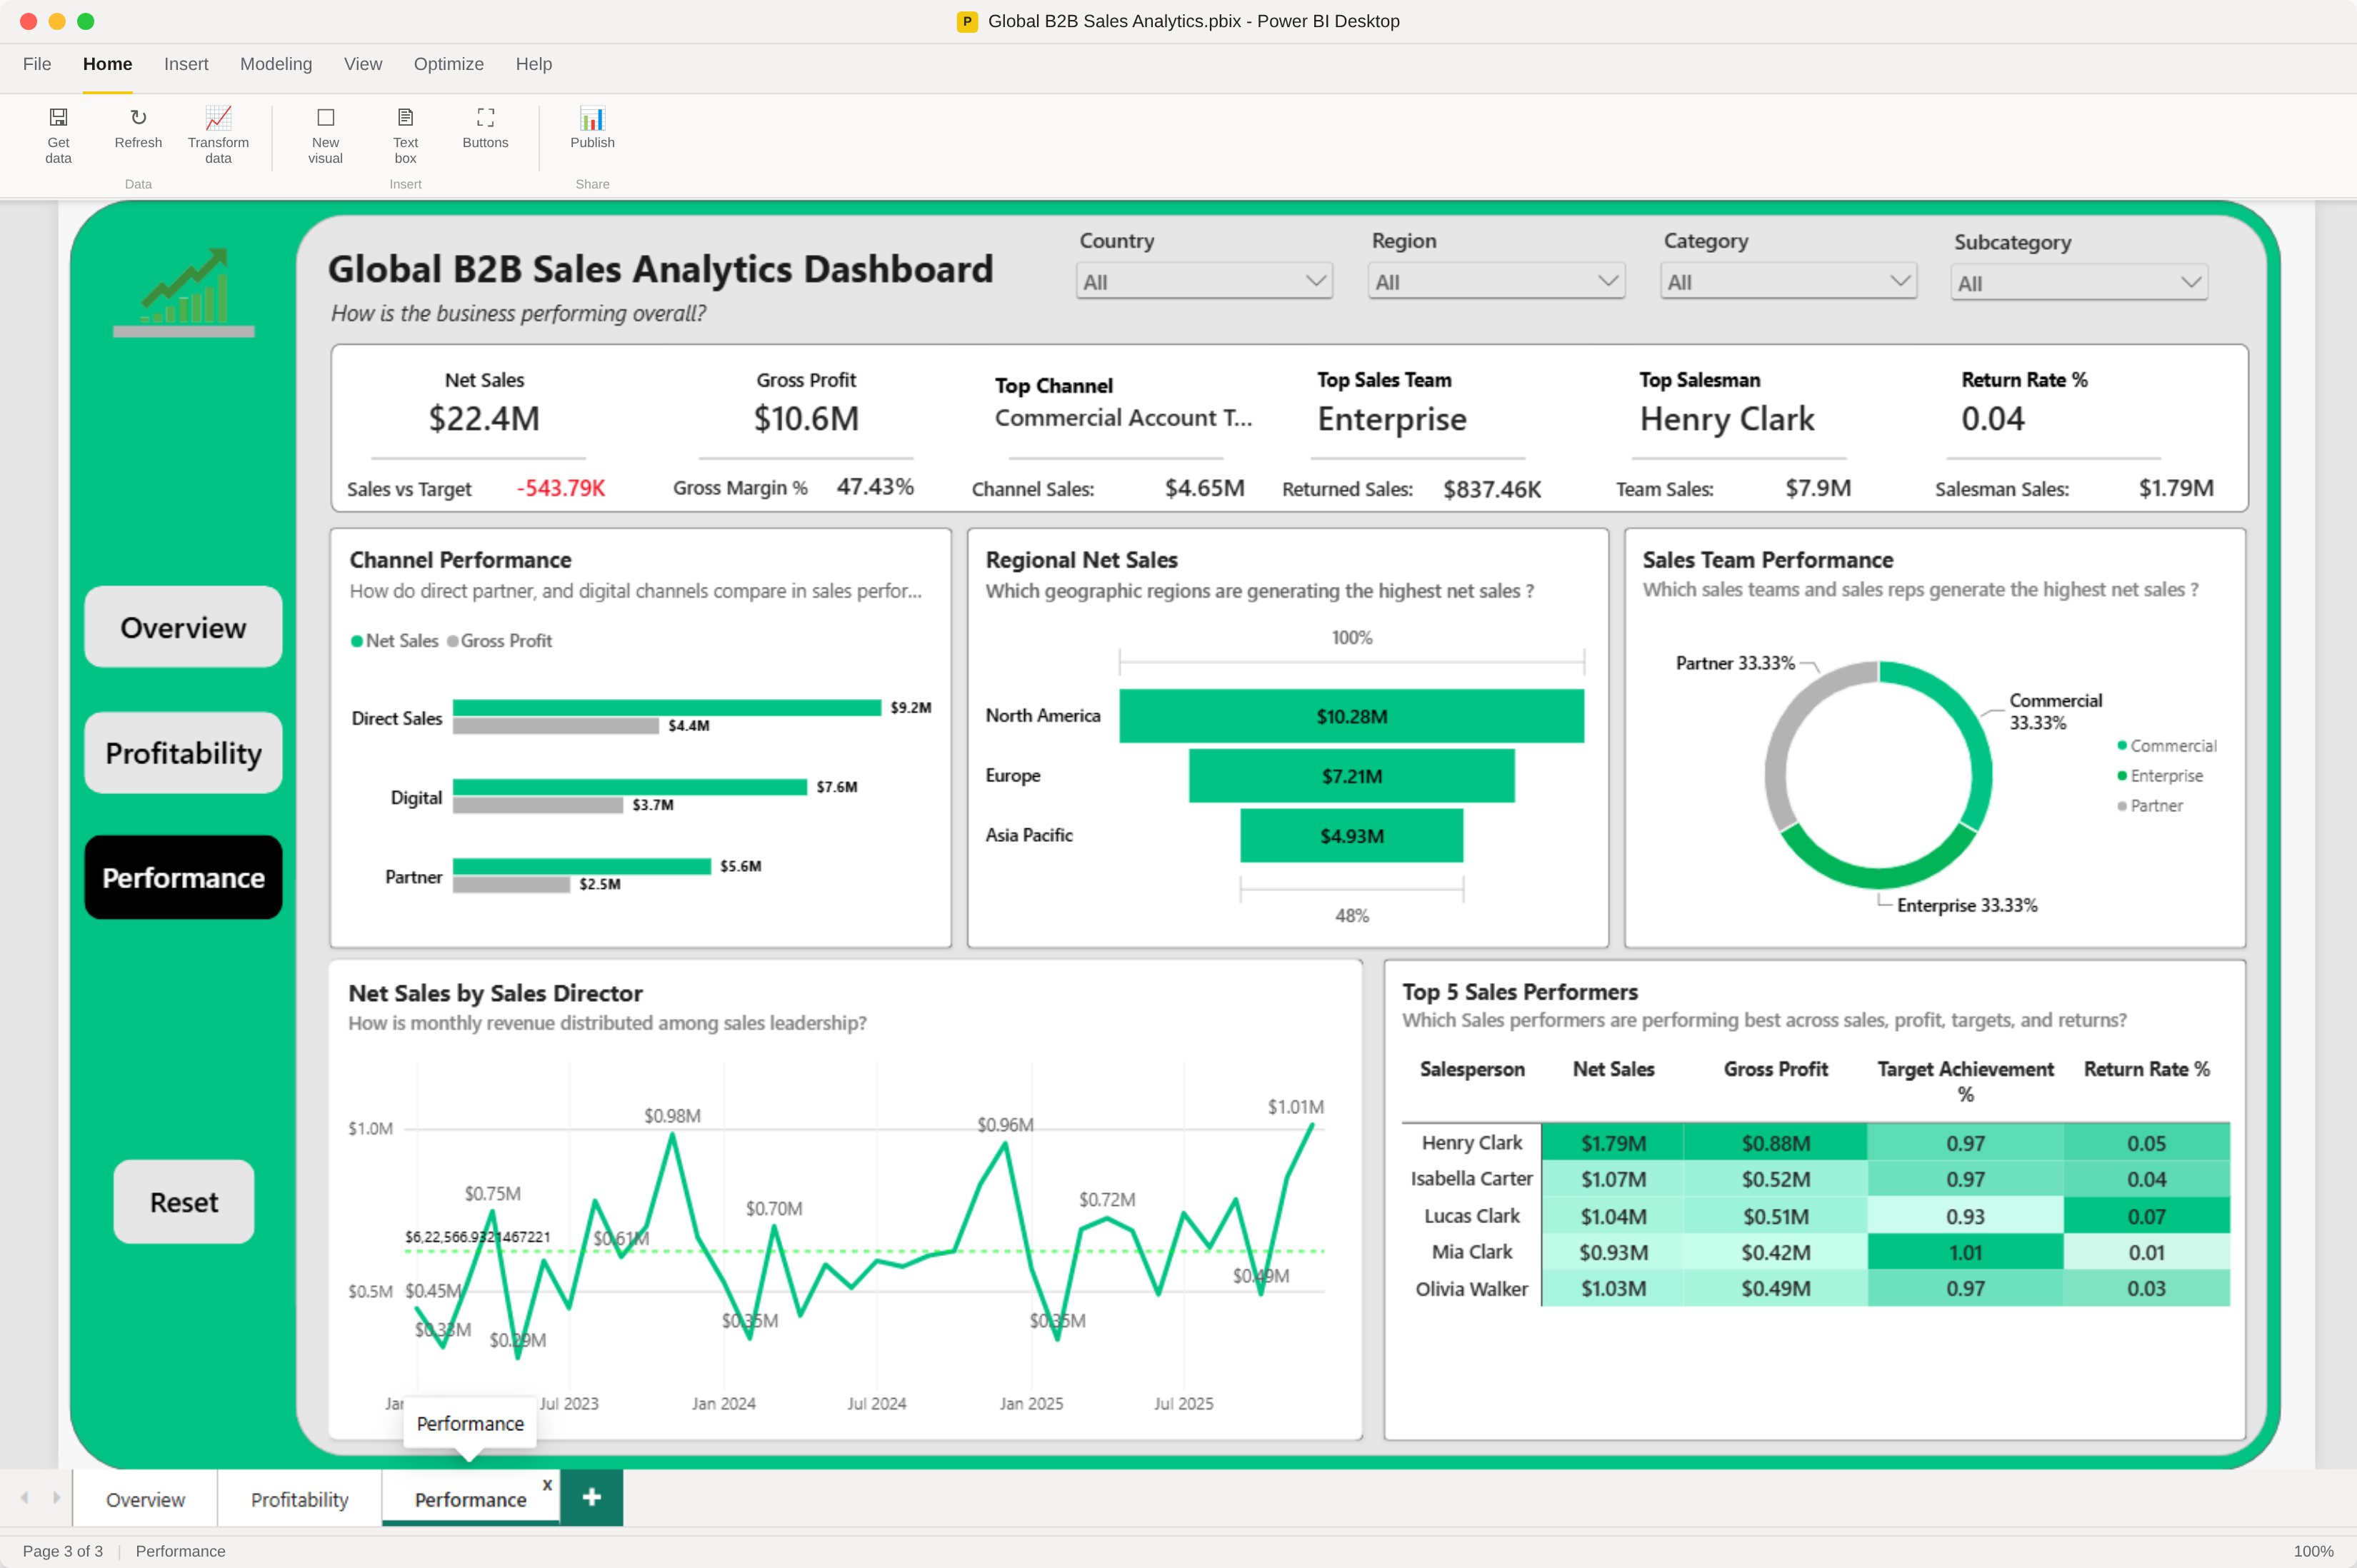

This screenshot's page, from the dashboard's own definition file:
{"tool":"powerbi","page":{"name":"Performance","canvas":[1920,1080],"ordinal":2},"visuals":[{"type":"shape","box":[10.3,0,1881.1,1080.6],"z":0},{"type":"shape","box":[201.9,12.3,1677.3,1055.7],"z":1000},{"type":"textbox","box":[229.6,35.4,670.3,61.6],"z":2000},{"type":"textbox","box":[232.1,81.8,669.6,41.7],"z":3000},{"type":"group","id":"g1","title":"Group 1","box":[232.4,122.3,1631.1,143.3],"z":4000},{"type":"cardVisual","fields":{"Data":["Overview measures.Net Sales","Overview measures.Gross Profit","Performance Measure.Top Channel","Performance Measure.Top Sales Team","Performance Measure.Top Salesman","Overview measures.Return Rate %"]},"box":[232.4,122.3,1631.1,143.3],"z":4000,"group":"g1"},{"type":"shape","box":[266.4,203.4,182.6,33.2],"z":5000,"group":"g1"},{"type":"shape","box":[544.9,203.8,182.6,33.2],"z":5000},{"type":"slicer","fields":{"Values":["DimGeography.Country"]},"box":[860.7,22,228.7,74.8],"z":6000},{"type":"slicer","fields":{"Values":["DimGeography.Region"]},"box":[1108.9,22,228.7,74.8],"z":7000},{"type":"slicer","fields":{"Values":["DimProduct.Category"]},"box":[1357.2,22,228.7,74.8],"z":8000},{"type":"slicer","fields":{"Values":["DimProduct.Subcategory"]},"box":[1605.5,23.5,228.7,74.8],"z":9000},{"type":"shape","box":[230.9,279.2,529.8,357.7],"z":10000},{"type":"shape","box":[231.8,646,877.7,409.7],"z":11000},{"type":"shape","box":[1127.4,646,734.2,409.7],"z":12000},{"type":"actionButton","box":[22.6,327.8,169.1,69.4],"z":13000},{"type":"image","box":[36.2,24.2,141.9,87.5],"z":14000,"group":"g2"},{"type":"group","id":"g2","title":"Group 2","box":[36.2,24.2,141.9,110.2],"z":14000},{"type":"shape","box":[46.8,89.1,120.8,45.3],"z":14005,"group":"g2"},{"type":"actionButton","box":[22.6,435,169.1,69.4],"z":15000},{"type":"actionButton","box":[22.6,539.1,169.1,72.5],"z":16000},{"type":"actionButton","box":[46.8,815.1,120.8,72.5],"z":17000},{"type":"shape","box":[809,203.8,182.6,33.2],"z":18000},{"type":"shape","box":[1065.6,203.8,182.6,33.2],"z":19000},{"type":"shape","box":[1338.8,203.8,182.6,33.2],"z":20000},{"type":"shape","box":[1606,203.8,182.6,33.2],"z":21000},{"type":"shape","box":[772.8,279.2,546.4,357.7],"z":22000},{"type":"shape","box":[1331.3,279.2,529.8,357.7],"z":23000},{"type":"clusteredBarChart","title":"Channel Performance","fields":{"Category":["DimChannel.ChannelGroup"],"Y":["Overview measures.Net Sales","Overview measures.Gross Profit"]},"box":[232.4,279.2,528.3,357.7],"z":24000},{"type":"funnel","title":"Regional Net Sales","fields":{"Category":["DimSalesperson.Region","DimSalesperson.SalesTeam"],"Y":["Overview measures.Net Sales"]},"box":[772.8,279.2,546.4,357.7],"z":25000},{"type":"donutChart","title":"Sales Team Performance","fields":{"Category":["DimSalesperson.SalesTeam"],"Y":["CountNonNull(DimSalesperson.Salesperson)"]},"box":[1331.3,279.2,529.8,357.7],"z":26000},{"type":"lineChart","title":"Net Sales by Sales Director","fields":{"Category":["DimDate.Date.Variation.Date Hierarchy.Year","DimDate.Date.Variation.Date Hierarchy.Month"],"Y":["Overview measures.Net Sales"]},"box":[228.8,646,880.7,409.7],"z":27000},{"type":"pivotTable","title":"Top 5 Sales Performers","fields":{"Rows":["DimSalesperson.Salesperson"],"Values":["Overview measures.Net Sales","Overview measures.Gross Profit","Overview measures.Target Achievement %","Overview measures.Return Rate %"]},"box":[1127.4,646,737.2,409.7],"z":28000},{"type":"cardVisual","fields":{"Data":["Performance Measure.Channel Sales"]},"box":[915.1,221.3,119.6,44.9],"z":29000},{"type":"textbox","box":[777.6,231.8,122.6,34.4],"z":30000},{"type":"cardVisual","fields":{"Data":["FactSales.Returned Sales"]},"box":[1160.3,222.8,119.6,44.9],"z":31000},{"type":"textbox","box":[1040.7,231.8,122.6,34.4],"z":32000},{"type":"cardVisual","fields":{"Data":["Profitability.Team Sales"]},"box":[1437,221.3,119.6,44.9],"z":33000},{"type":"textbox","box":[1324.8,231.8,122.6,34.4],"z":34000},{"type":"cardVisual","fields":{"Data":["Performance Measure.Salesman Sales"]},"box":[1742,221.3,119.6,44.9],"z":35000},{"type":"textbox","box":[1597,231.8,122.6,34.4],"z":36000},{"type":"cardVisual","fields":{"Data":["Overview measures.Sales vs Target"]},"box":[368,222.4,119.6,44.9],"z":37000},{"type":"textbox","box":[245.2,231.8,122.6,34.4],"z":38000},{"type":"cardVisual","fields":{"Data":["Overview measures.Gross Margin %"]},"box":[635.7,219.7,119.6,44.9],"z":39000},{"type":"textbox","box":[523.1,230.7,122.6,34.4],"z":40000}]}

Visuals, with their boxes on the page's 1920x1080 design canvas (x1, y1, x2, y2). These are canvas units, not pixel positions in the 2357x1568 screenshot, which may show the page scaled, cropped or inside an application window:
shape: rect(10, 0, 1891, 1081)
shape: rect(202, 12, 1879, 1068)
textbox: rect(230, 35, 900, 97)
textbox: rect(232, 82, 902, 124)
"Group 1" group: rect(232, 122, 1864, 266)
cardVisual - Overview measures.Net Sales x Overview measures.Gross Profit: rect(232, 122, 1864, 266)
shape: rect(266, 203, 449, 237)
shape: rect(545, 204, 728, 237)
slicer - DimGeography.Country: rect(861, 22, 1089, 97)
slicer - DimGeography.Region: rect(1109, 22, 1338, 97)
slicer - DimProduct.Category: rect(1357, 22, 1586, 97)
slicer - DimProduct.Subcategory: rect(1606, 24, 1834, 98)
shape: rect(231, 279, 761, 637)
shape: rect(232, 646, 1110, 1056)
shape: rect(1127, 646, 1862, 1056)
actionButton: rect(23, 328, 192, 397)
image: rect(36, 24, 178, 112)
"Group 2" group: rect(36, 24, 178, 134)
shape: rect(47, 89, 168, 134)
actionButton: rect(23, 435, 192, 504)
actionButton: rect(23, 539, 192, 612)
actionButton: rect(47, 815, 168, 888)
shape: rect(809, 204, 992, 237)
shape: rect(1066, 204, 1248, 237)
shape: rect(1339, 204, 1521, 237)
shape: rect(1606, 204, 1789, 237)
shape: rect(773, 279, 1319, 637)
shape: rect(1331, 279, 1861, 637)
"Channel Performance" clusteredBarChart: rect(232, 279, 761, 637)
"Regional Net Sales" funnel: rect(773, 279, 1319, 637)
"Sales Team Performance" donutChart: rect(1331, 279, 1861, 637)
"Net Sales by Sales Director" lineChart: rect(229, 646, 1110, 1056)
"Top 5 Sales Performers" pivotTable: rect(1127, 646, 1865, 1056)
cardVisual - Performance Measure.Channel Sales: rect(915, 221, 1035, 266)
textbox: rect(778, 232, 900, 266)
cardVisual - FactSales.Returned Sales: rect(1160, 223, 1280, 268)
textbox: rect(1041, 232, 1163, 266)
cardVisual - Profitability.Team Sales: rect(1437, 221, 1557, 266)
textbox: rect(1325, 232, 1447, 266)
cardVisual - Performance Measure.Salesman Sales: rect(1742, 221, 1862, 266)
textbox: rect(1597, 232, 1720, 266)
cardVisual - Overview measures.Sales vs Target: rect(368, 222, 488, 267)
textbox: rect(245, 232, 368, 266)
cardVisual - Overview measures.Gross Margin %: rect(636, 220, 755, 265)
textbox: rect(523, 231, 646, 265)
